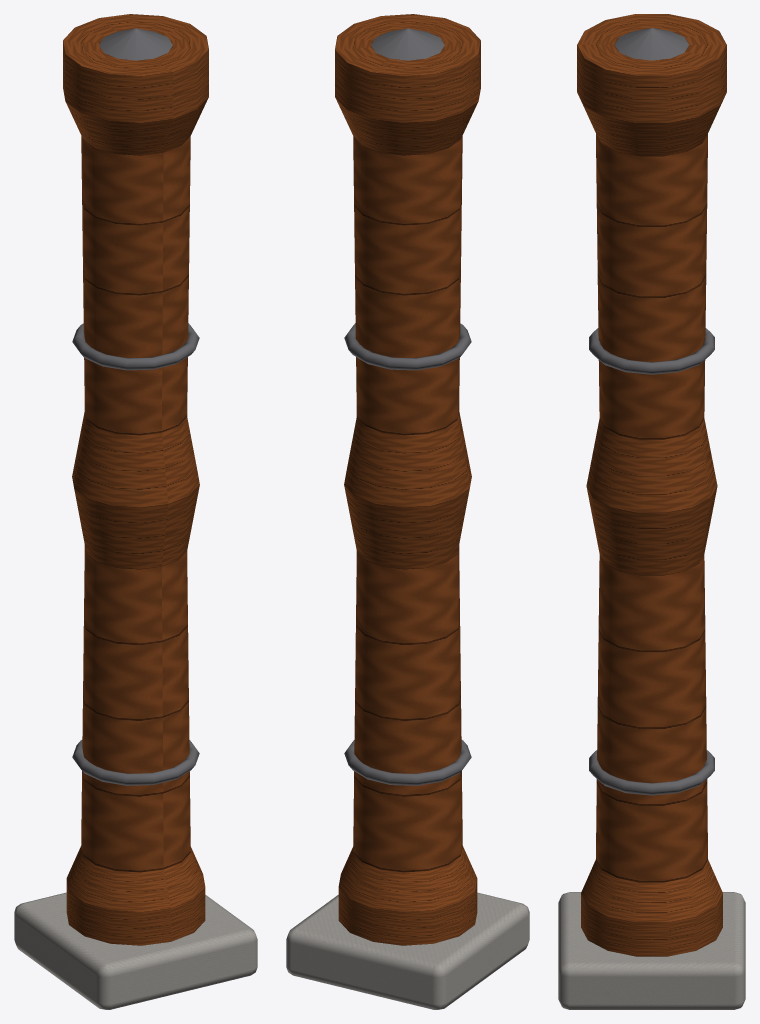
File: witch-cottage-and-apothecary-timber-frame-corner-post-e4bfbeeb__32435.glb
The picture shows the model from 3 angles, left to right: view 1: azimuth 30°, elevation 25°; view 2: azimuth 150°, elevation 25°; view 3: azimuth 270°, elevation 25°; orthographic projection.
Parts seen in each view (by area): view 1: timber-frame-corner-post; view 2: timber-frame-corner-post; view 3: timber-frame-corner-post.
Boxes of the visible parts, bbox=[...] form: timber-frame-corner-post: bbox=[14, 14, 257, 1009]; timber-frame-corner-post: bbox=[286, 14, 529, 1009]; timber-frame-corner-post: bbox=[558, 14, 745, 1009].
Bounding box in the file's own units: 0.5 × 2.79 × 0.5.
Materials: 3 (2 with a texture image).
